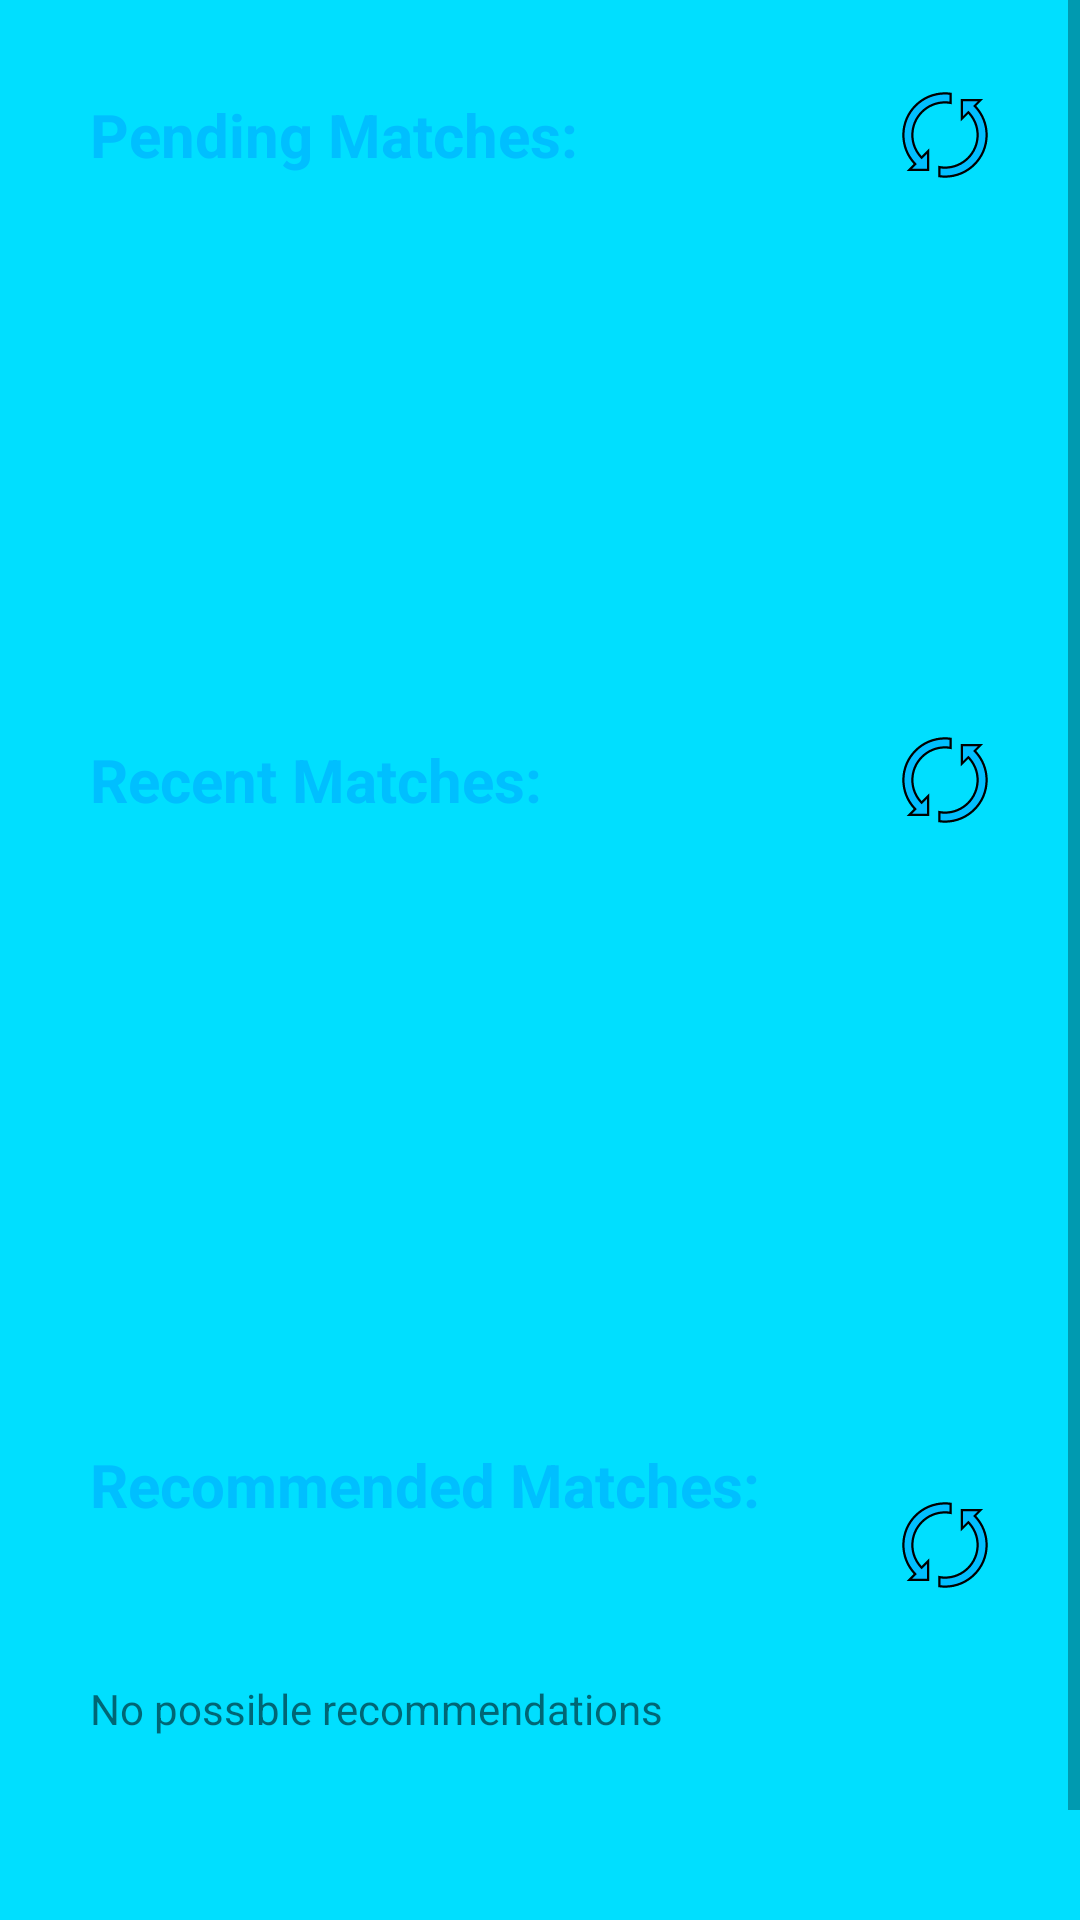

Where icons sit on this 1080 × 1920 app screen, as (x1, y1, x2, y2):
reload: (902, 92, 988, 178), (902, 737, 988, 823), (902, 1502, 988, 1588)
